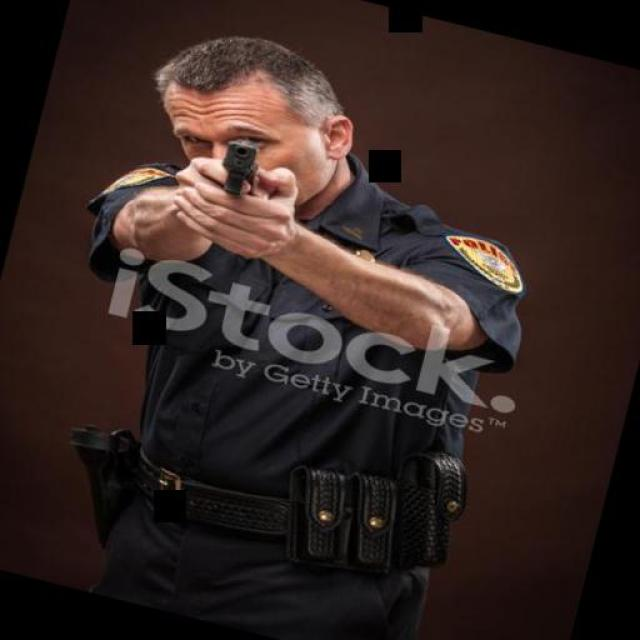gun: (211, 132, 260, 204)
